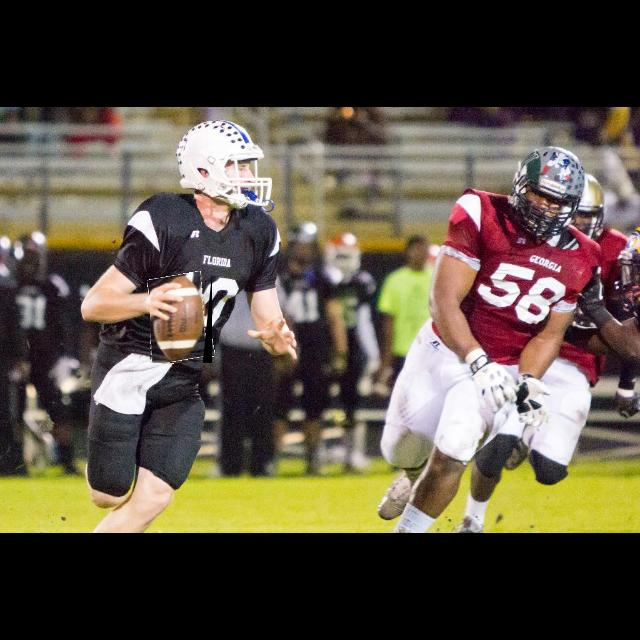Football: (150, 273, 212, 363)
